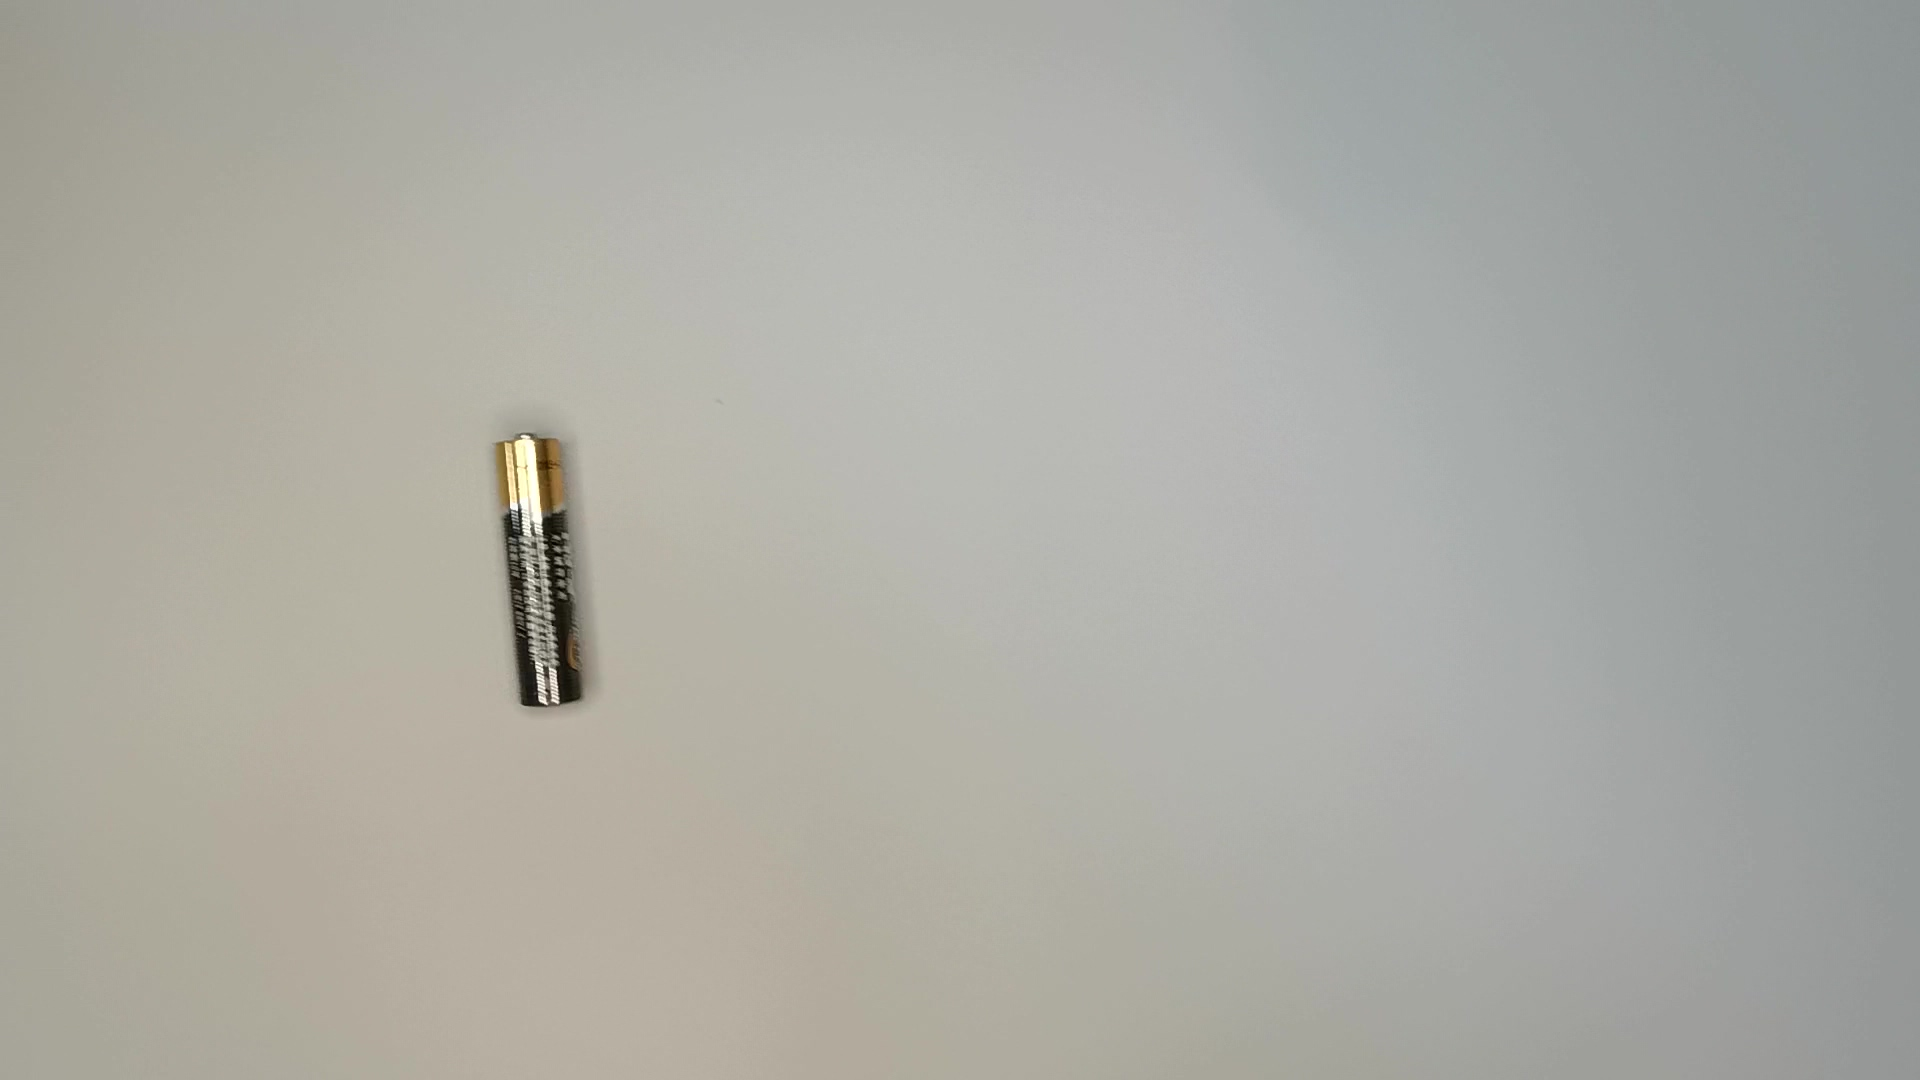battery: (487, 426, 597, 713)
